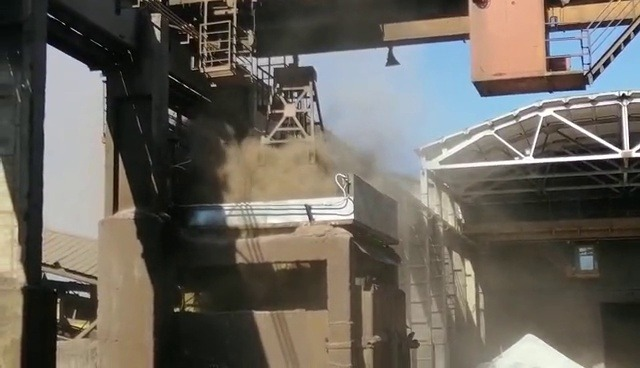dust: (195, 50, 600, 362)
grab: (254, 63, 332, 164)
